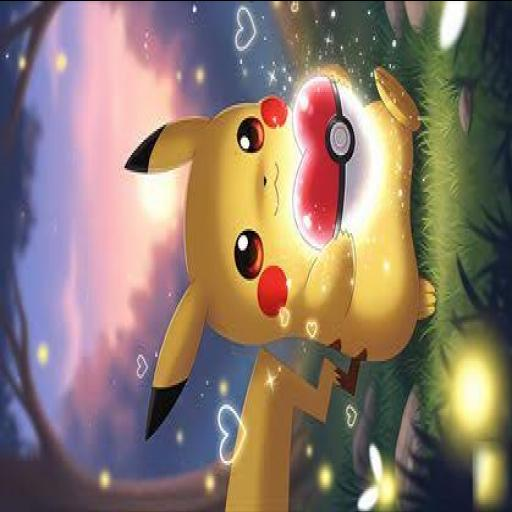Pikachu: (124, 64, 436, 512)
